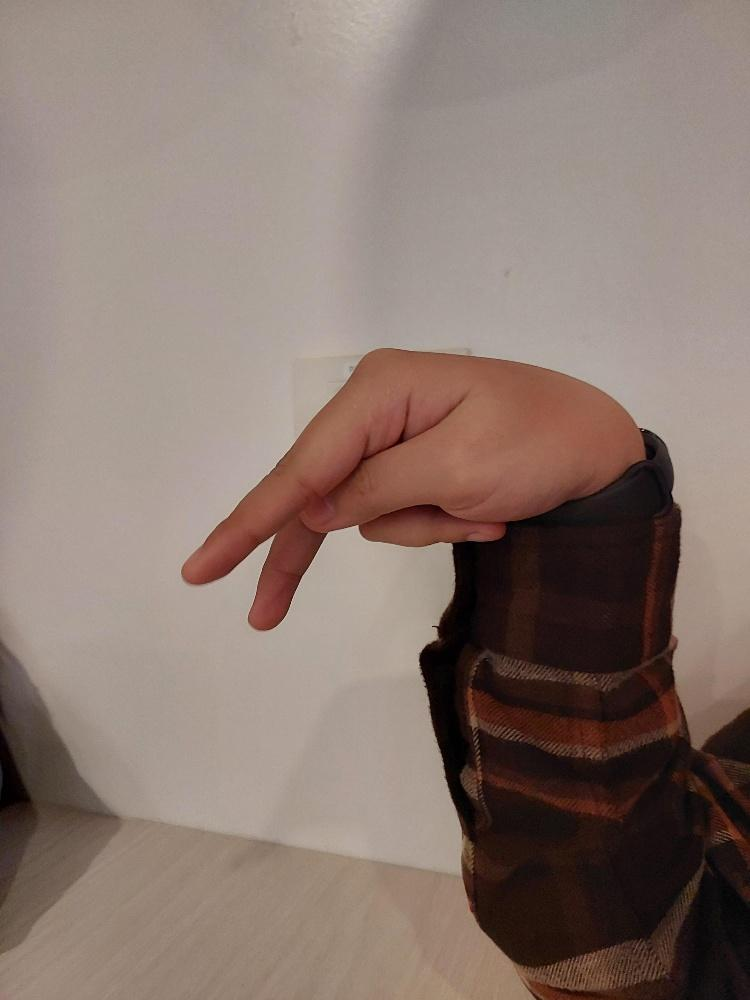p: (175, 340, 654, 636)
